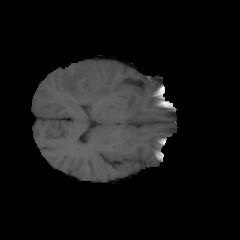glioma: (56, 63, 113, 108)
